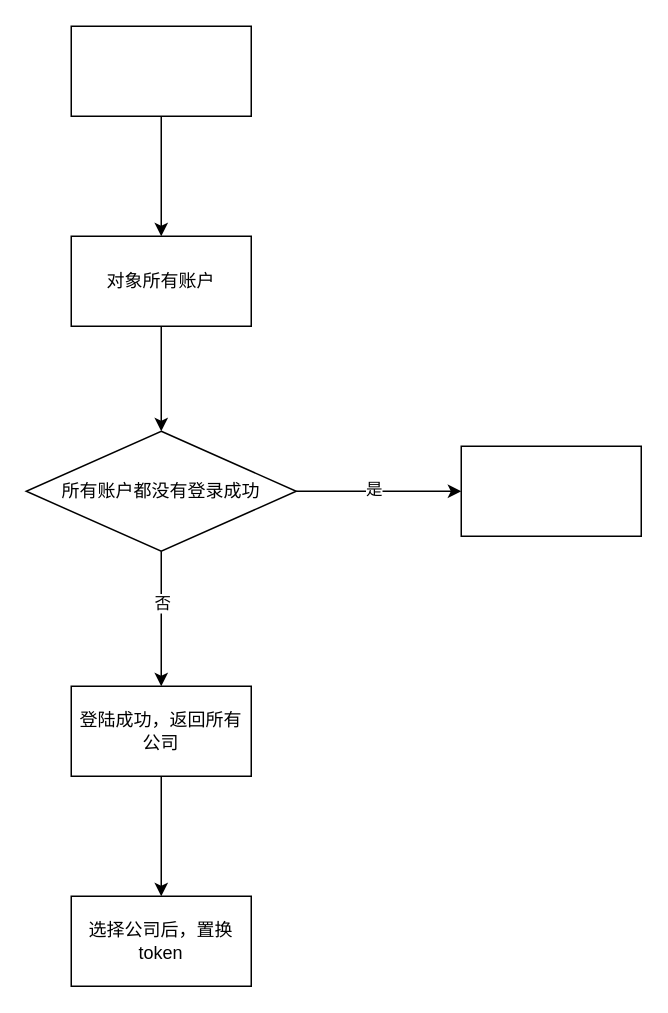
The diagram is 668 pixels wide and 1013 high, and some of its shapes have lost their labels. The shapes that lost their labels are listed below. From the top down, each one's centre as x and y in pixels, then its label:
point 160,70: 账户
point 550,490: 账户密码错误
